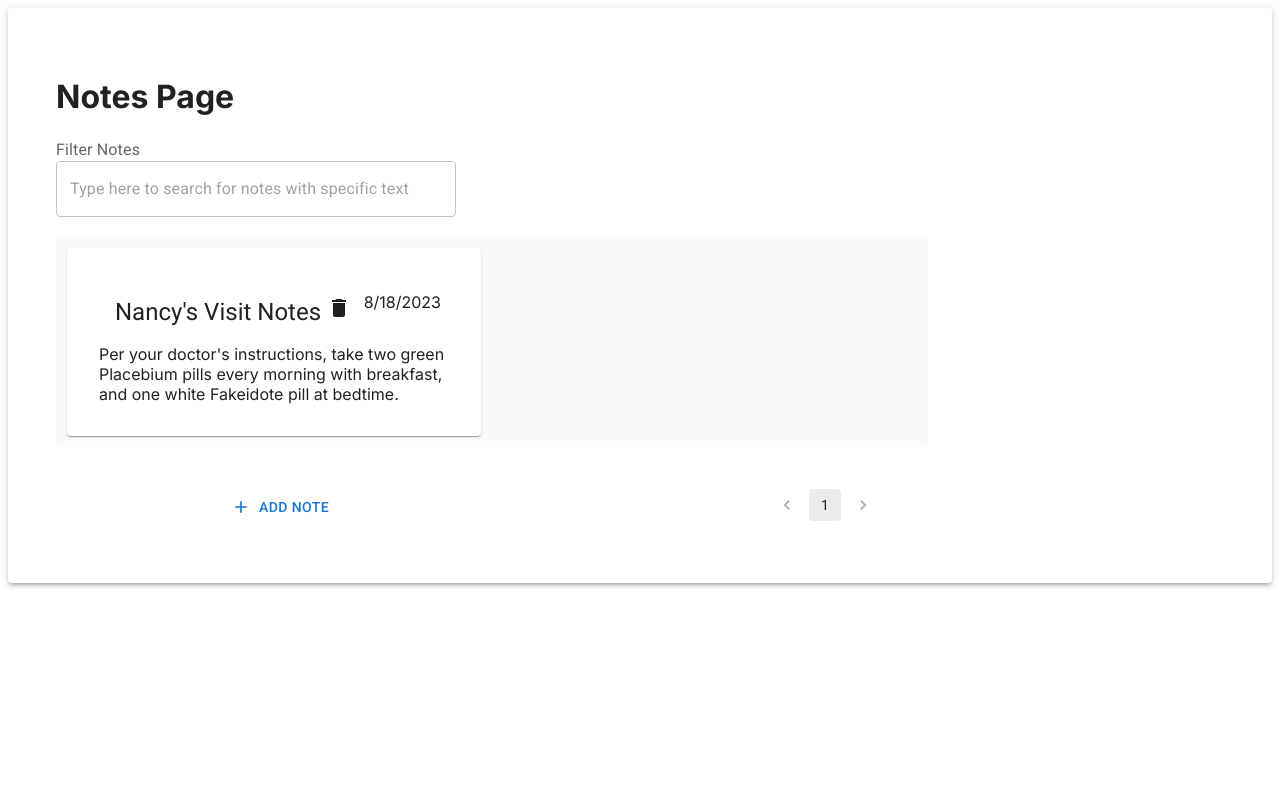
Test: NotesPage › opens create dialog when button is pressed
Click the button "Add Note": x=282, y=507 [227,489,337,525]
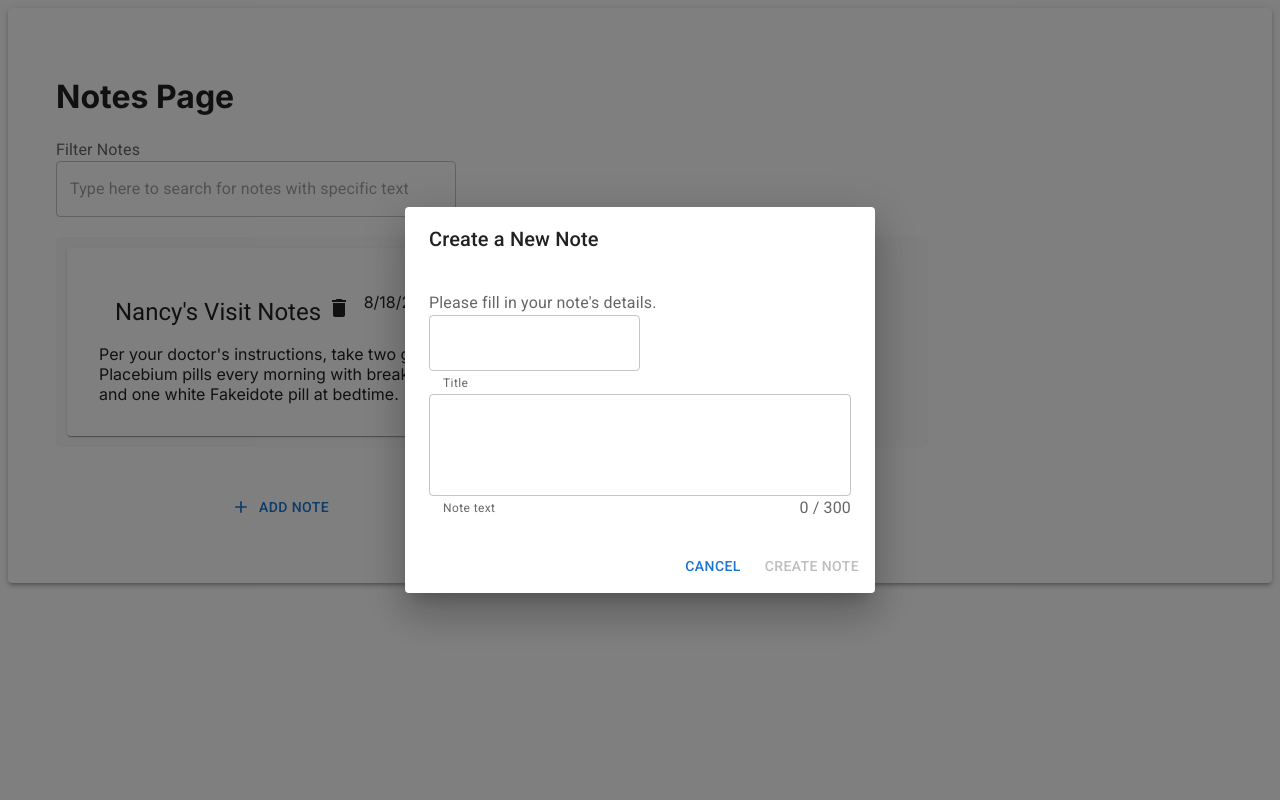
Now the element named "title" is shown, box [429,315,640,371]
Now the element named "text" is shown, box [429,394,851,496]
Now the button "Create Note" is shown, box [757,548,867,585]
